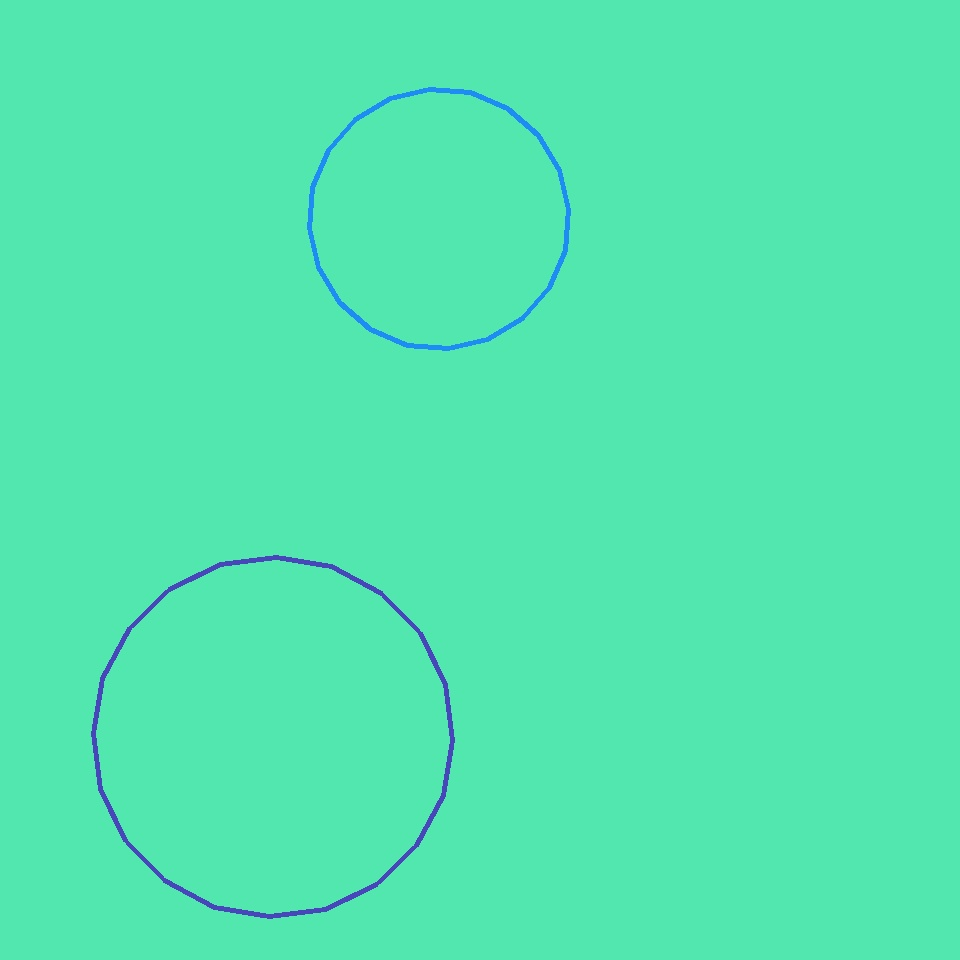triangle: (93, 558, 452, 916), (310, 90, 568, 348)
